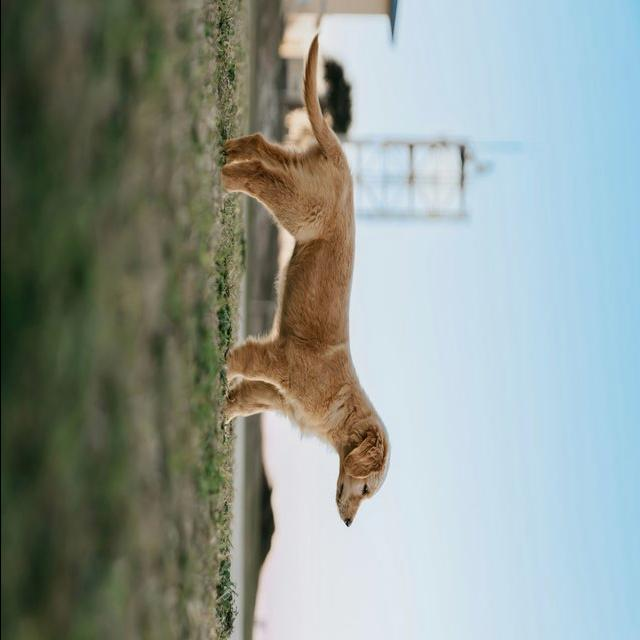retriever: (219, 34, 391, 528)
